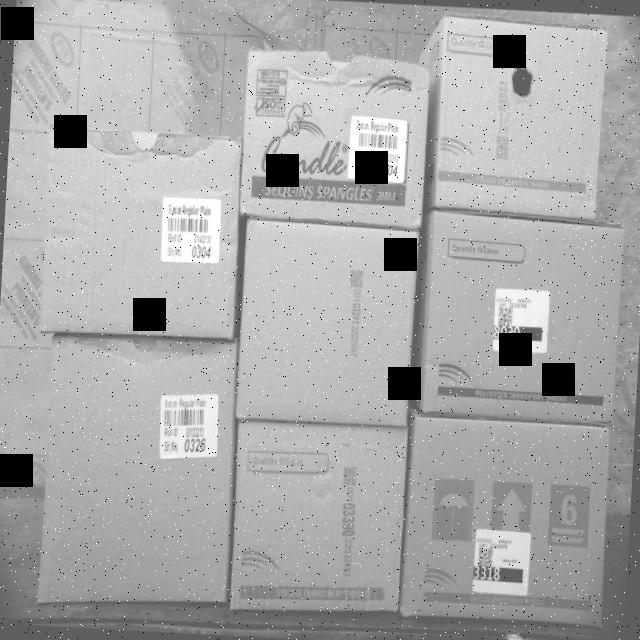box: (35, 332, 239, 612), (402, 414, 616, 627), (418, 216, 628, 425), (41, 128, 244, 337), (236, 218, 422, 431), (227, 417, 414, 615), (431, 20, 612, 218), (240, 51, 433, 228)
